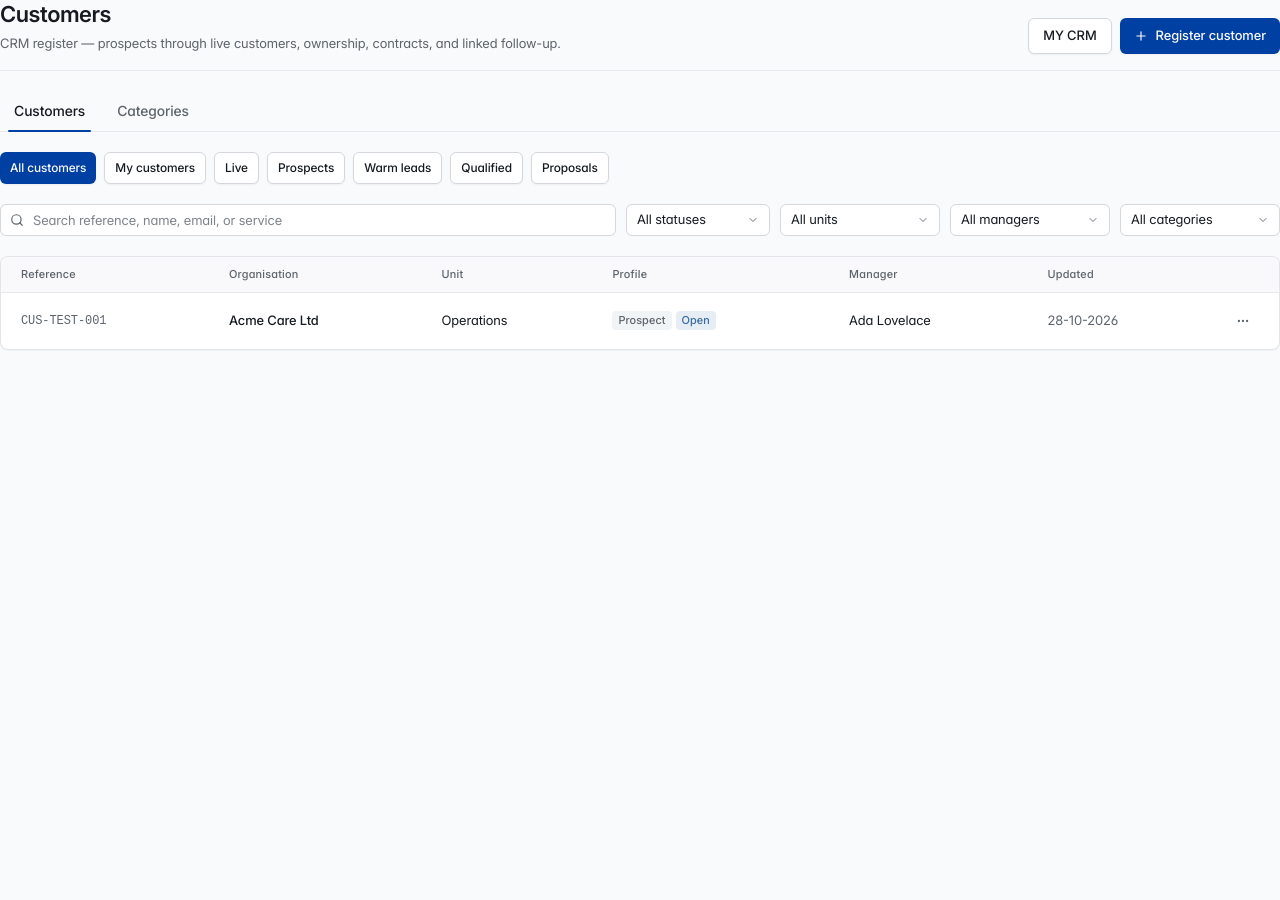
Test: CustomersListPage › opens details with edit action
Check: the text "Acme Care Ltd" is shown, box [213,292,426,349]
Click the button named "actions for acme care ltd" at (1243,321), box [1227,305,1259,337]
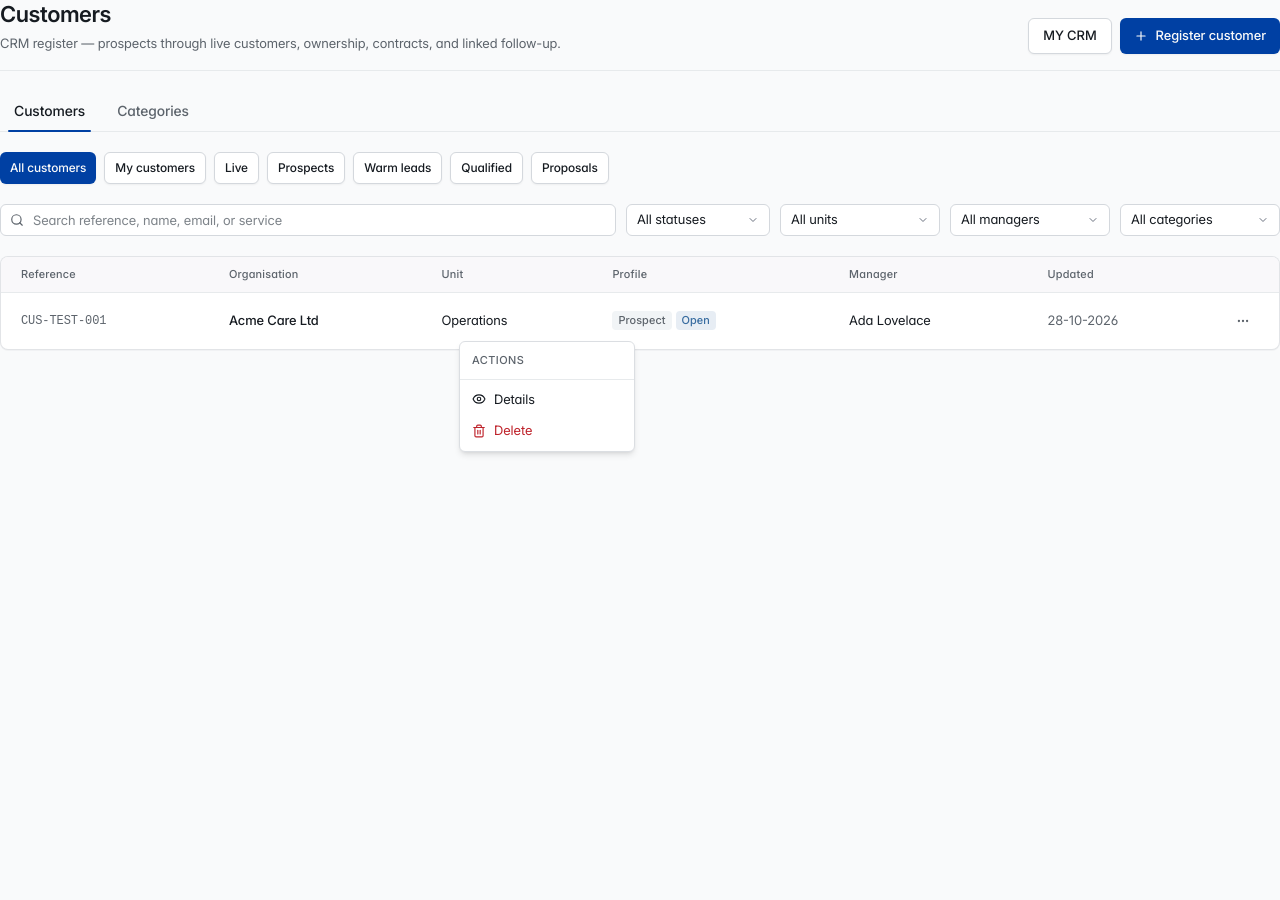
Click the menu item "Details" at (503,398), box [472,390,535,406]
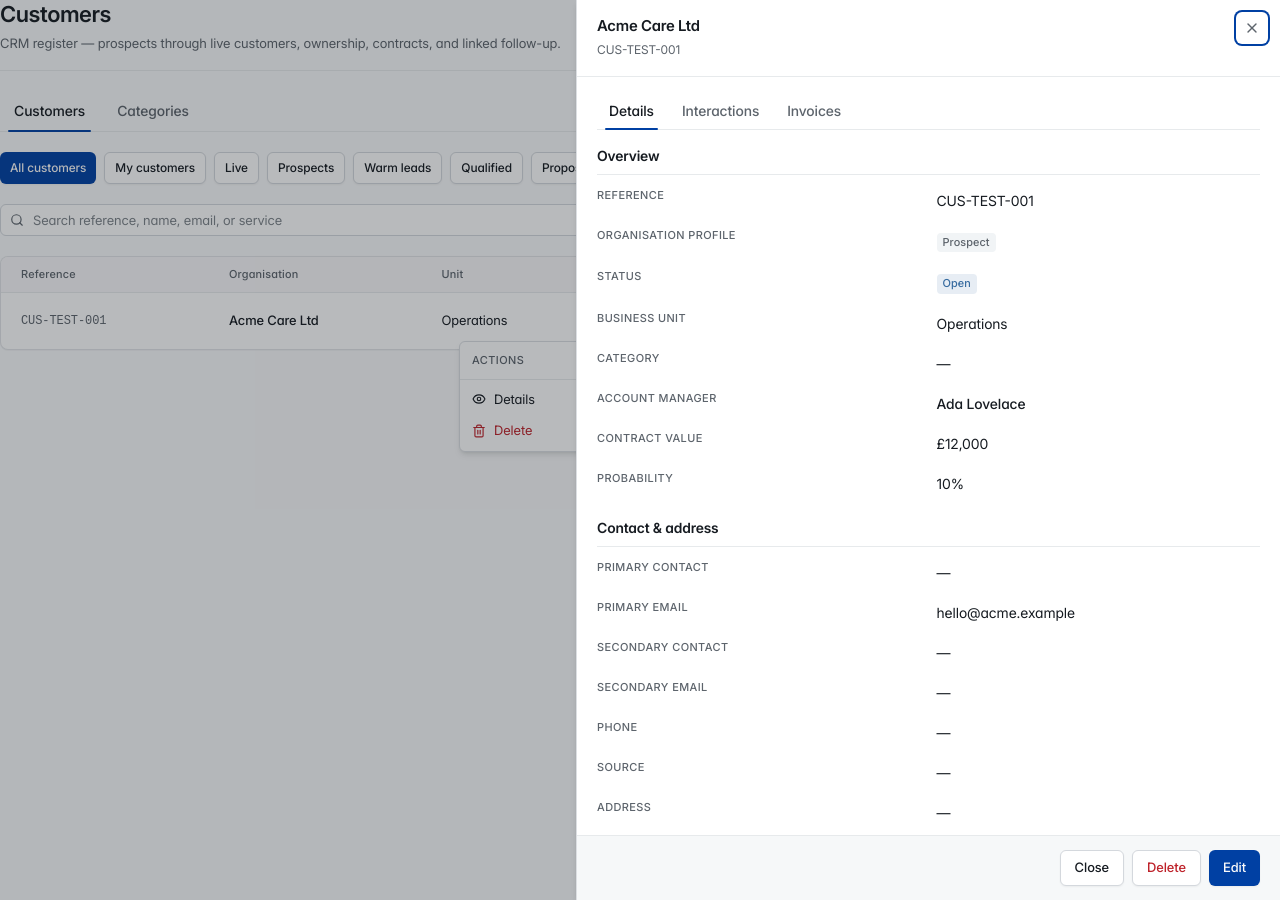
Check: the button "Edit" is shown, box [1209,850,1260,886]
Check: the heading "Contact & address" is shown, box [597,518,1260,547]
